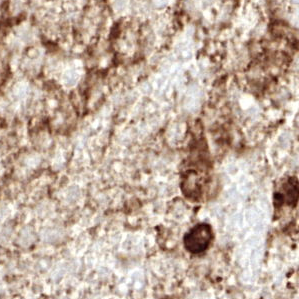Lymphocyte: (181, 222, 215, 255)
